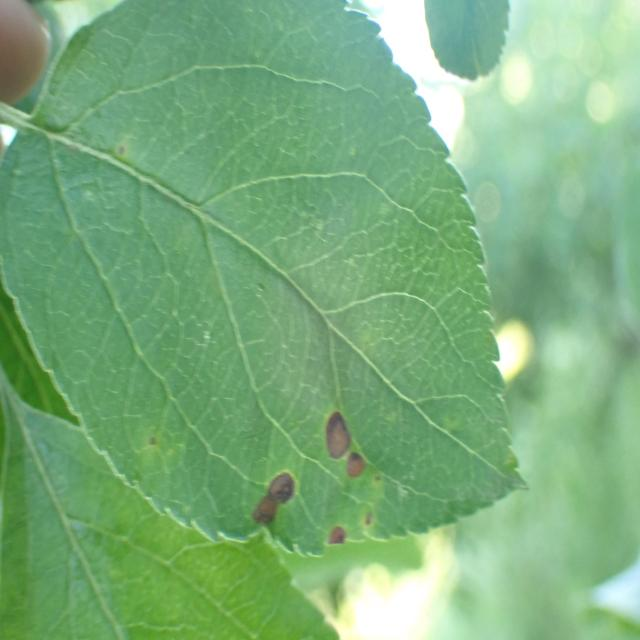Black Rot: (310, 401, 375, 482), (251, 460, 303, 544), (325, 502, 382, 570)
